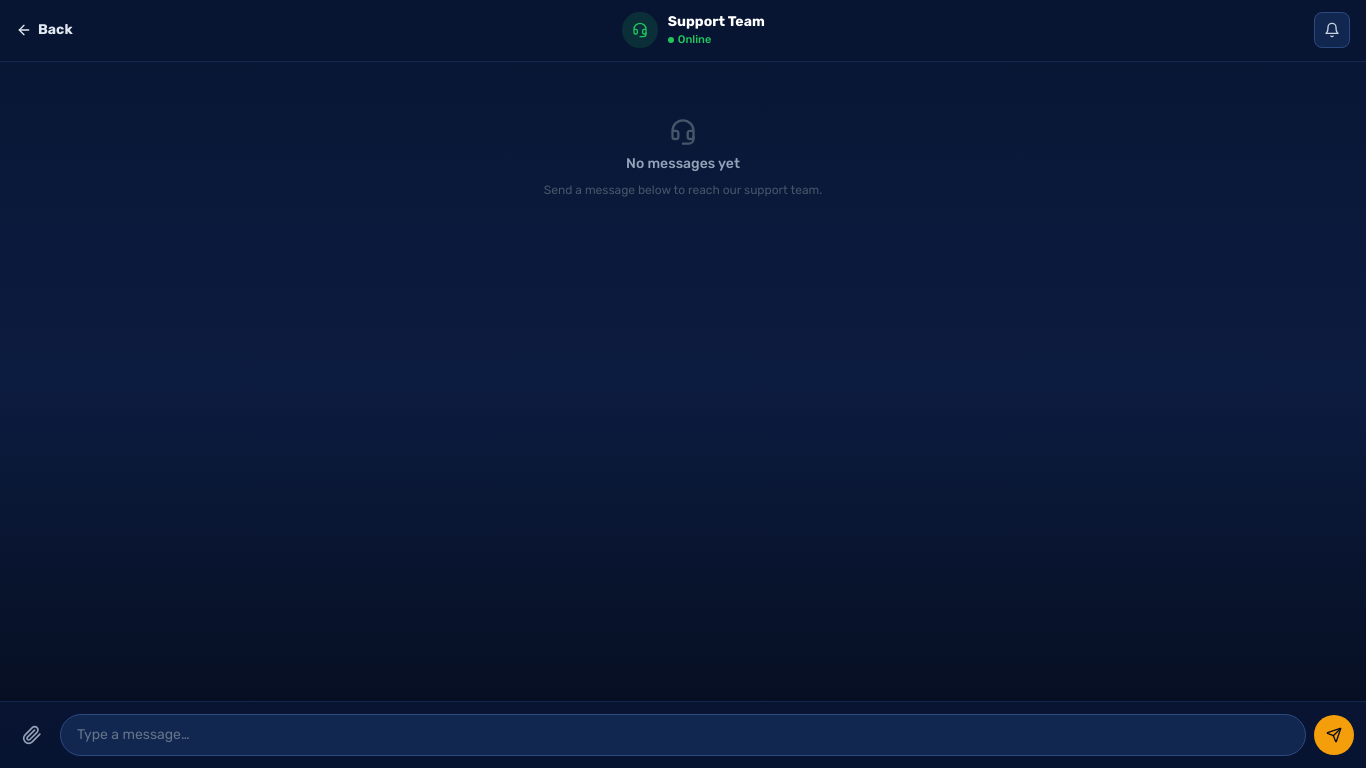
Test: SupportPage — a single ongoing chat with Support Team, never a ticket inbox (operator-specified design) › sending the first message with no existing ticket silently creates one (auto category/subject) and shows the reply
Expected: the text "No messages yet" is shown, x1=626 y1=154 x2=740 y2=174
Type "hi" into the field with placeholder "Type a message…". click: (683, 735)
box: x1=60 y1=714 x2=1306 y2=756
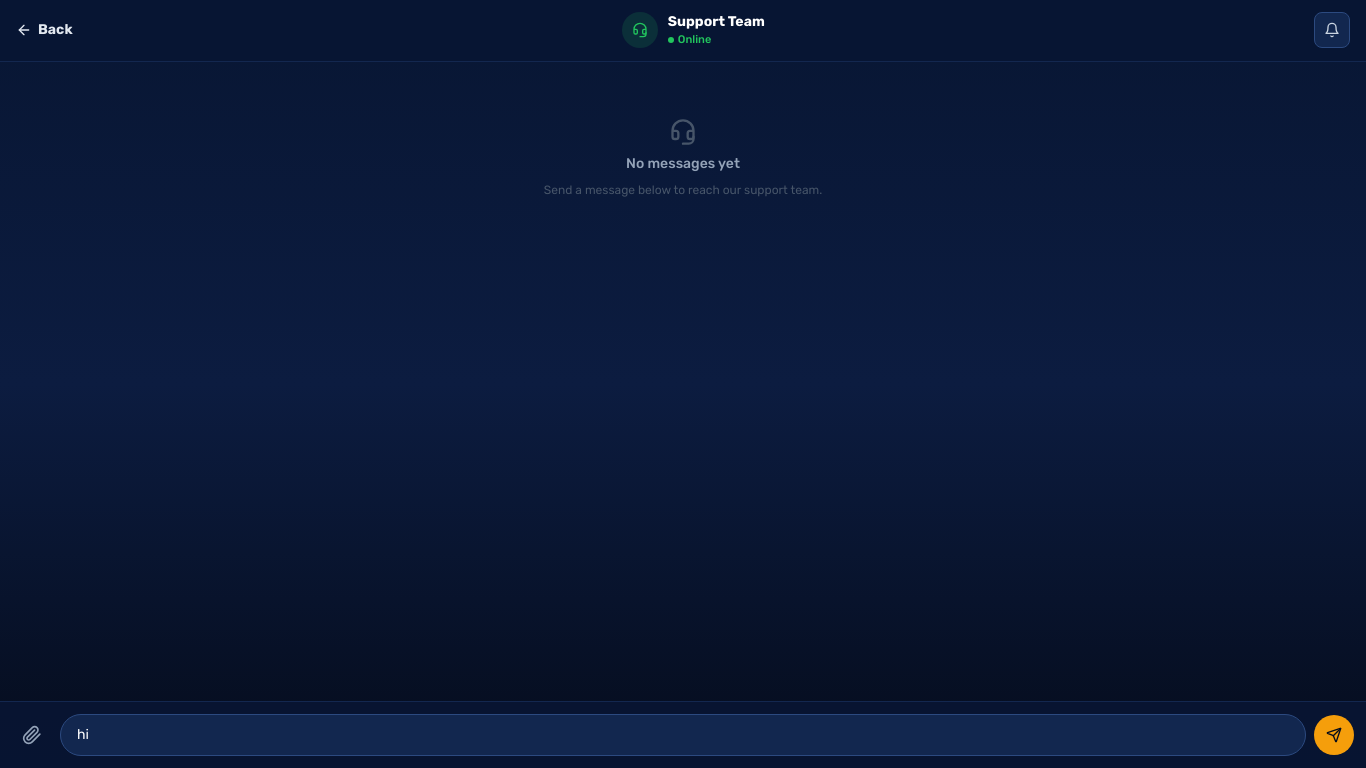
Click the button named "Send message". click: (1334, 735)
box: x1=1314 y1=715 x2=1354 y2=755
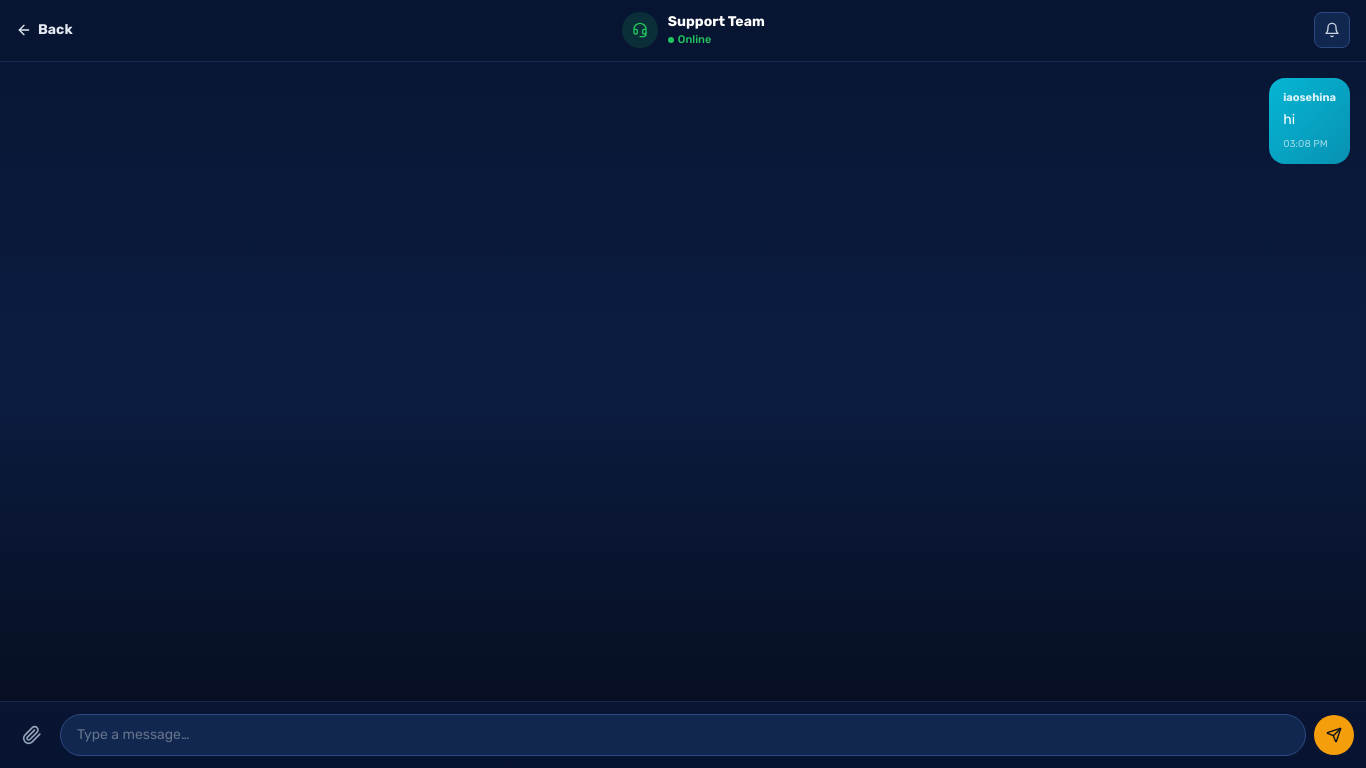
Now the text "hi" is shown, box x1=1283 y1=110 x2=1295 y2=128
